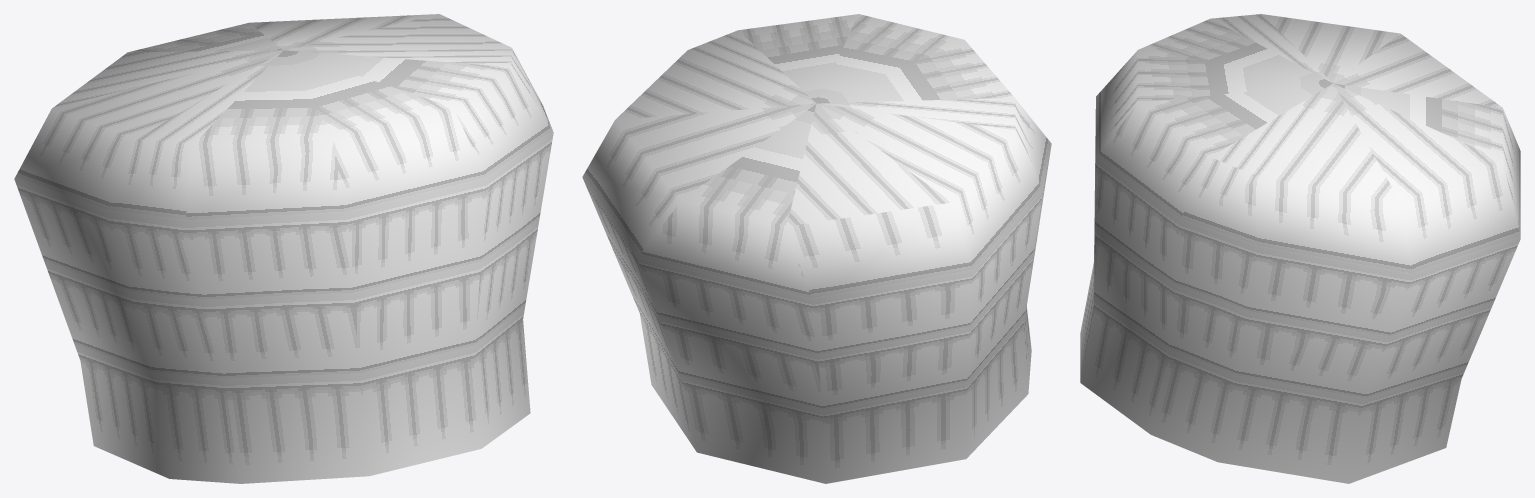
The model's file is code_head61.gltf.
3 views of the same model, side by side, from view 1: azimuth 30°, elevation 25°; view 2: azimuth 150°, elevation 25°; view 3: azimuth 270°, elevation 25° (orthographic). The views are drawn at different scales.
Parts seen in each view (by area): view 1: code_head61; view 2: code_head61; view 3: code_head61.
Part boxes in pixels (x1,y1,x2,y2): code_head61: [14, 14, 553, 483]; code_head61: [582, 14, 1051, 483]; code_head61: [1080, 14, 1520, 483].
Bounding box in the file's own units: 0.7817 × 0.6333 × 0.7449.
Materials: 1 (1 with a texture image).
